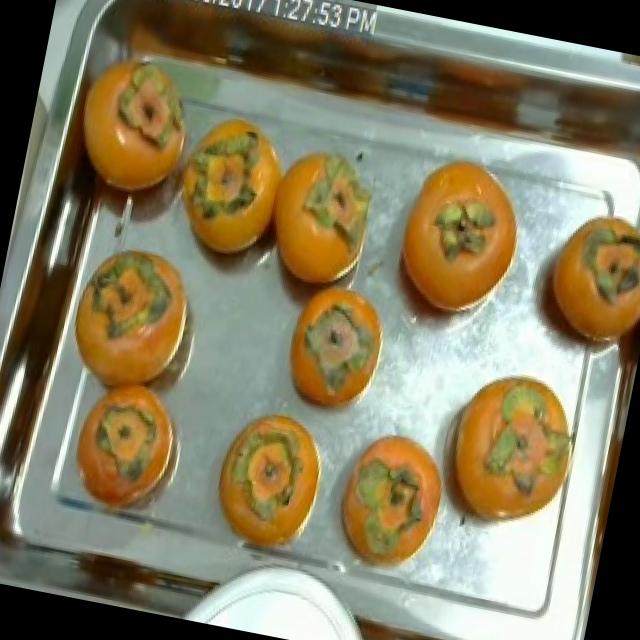Fruit: (366, 126, 554, 352), (418, 348, 588, 560), (55, 222, 228, 429), (193, 390, 344, 574), (314, 408, 462, 594), (49, 366, 204, 540), (512, 187, 640, 383), (262, 264, 404, 439)
